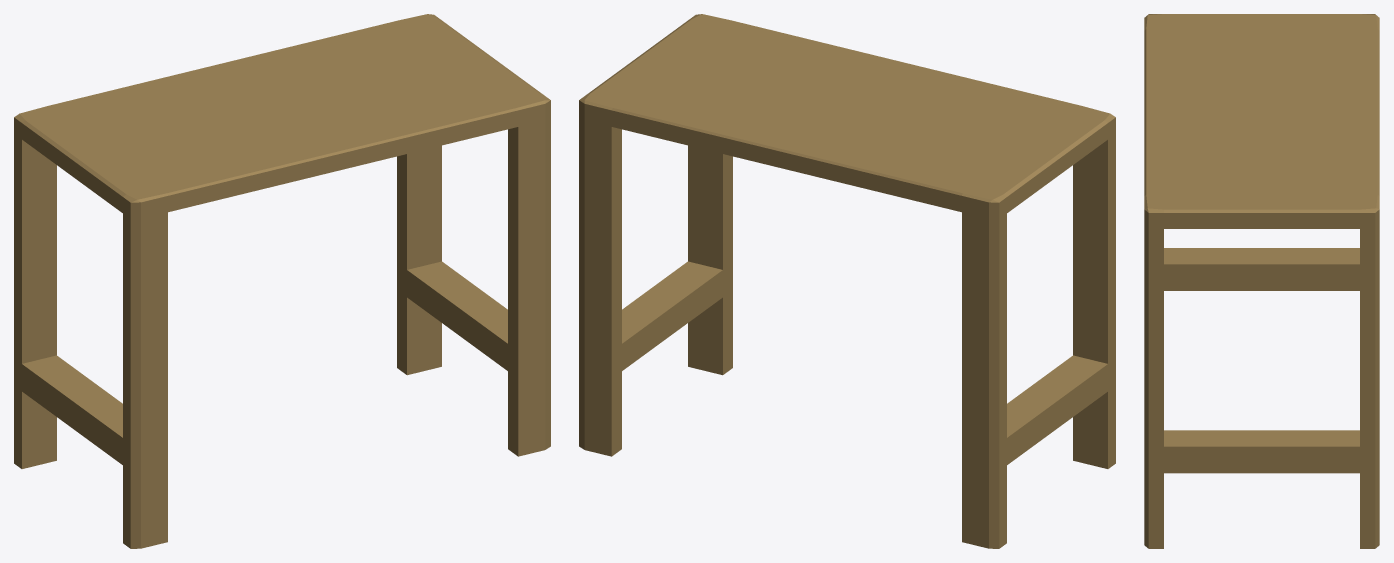
File: Medium Shelf.fbx
3 renders of one model, left to right at view 1: azimuth 30°, elevation 25°; view 2: azimuth 150°, elevation 25°; view 3: azimuth 270°, elevation 25°, orthographic. The views are drawn at different scales.
Visible parts, largest first — view 1: Medium Shelf; view 2: Medium Shelf; view 3: Medium Shelf.
Part boxes in pixels (box(x1,y1,x2,y2)): Medium Shelf: box(14, 14, 550, 548); Medium Shelf: box(579, 14, 1115, 548); Medium Shelf: box(1144, 14, 1379, 548).
Size of the model in its own units: 122 by 96.52 by 60.96.
